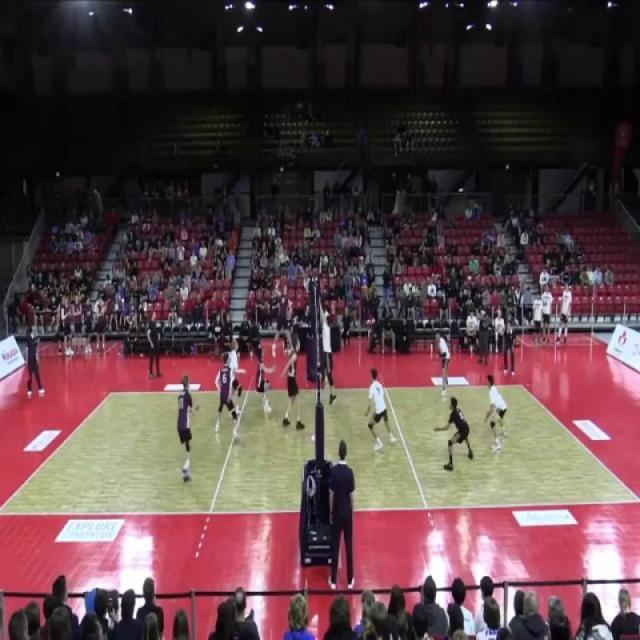volleyball: (278, 253, 286, 264)
